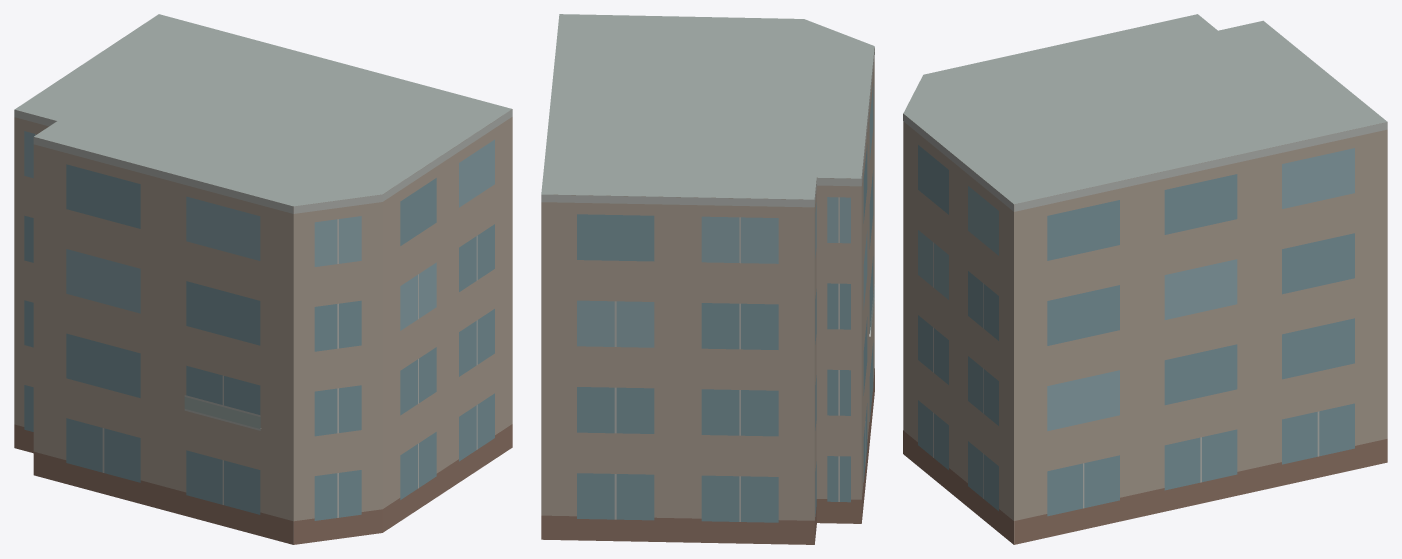
Rendered from survey-upis-32697335.glb.
3 renders of one model, left to right at view 1: azimuth 30°, elevation 25°; view 2: azimuth 150°, elevation 25°; view 3: azimuth 270°, elevation 25°, orthographic.
Parts seen in each view (by area): view 1: survey-upis-32697335.tmp; view 2: survey-upis-32697335.tmp; view 3: survey-upis-32697335.tmp.
Boxes of the visible parts, bbox=[...] form: survey-upis-32697335.tmp: bbox=[14, 14, 512, 544]; survey-upis-32697335.tmp: bbox=[541, 14, 874, 544]; survey-upis-32697335.tmp: bbox=[903, 14, 1387, 544].
Bounding box in the file's own units: 13.07 × 10.9 × 14.06.
